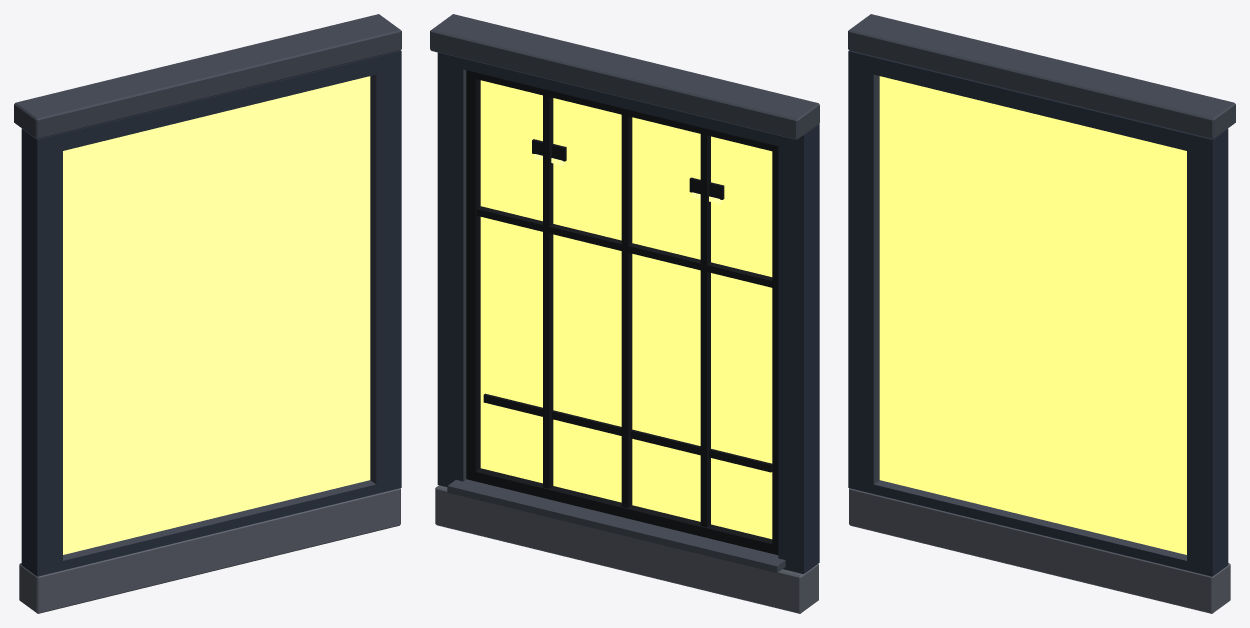
The model's file is hall_window_wall.glb.
The picture shows the model from 3 angles, left to right: view 1: azimuth 30°, elevation 25°; view 2: azimuth 150°, elevation 25°; view 3: azimuth 330°, elevation 25°; orthographic projection.
Visible parts, largest first — view 1: wall; view 2: wall; view 3: wall.
Boxes of the visible parts, bbox=[...] form: wall: bbox=[14, 14, 401, 613]; wall: bbox=[430, 14, 819, 613]; wall: bbox=[848, 14, 1235, 613].
Bounding box in the file's own units: 4.02 × 5.2 × 0.46.
